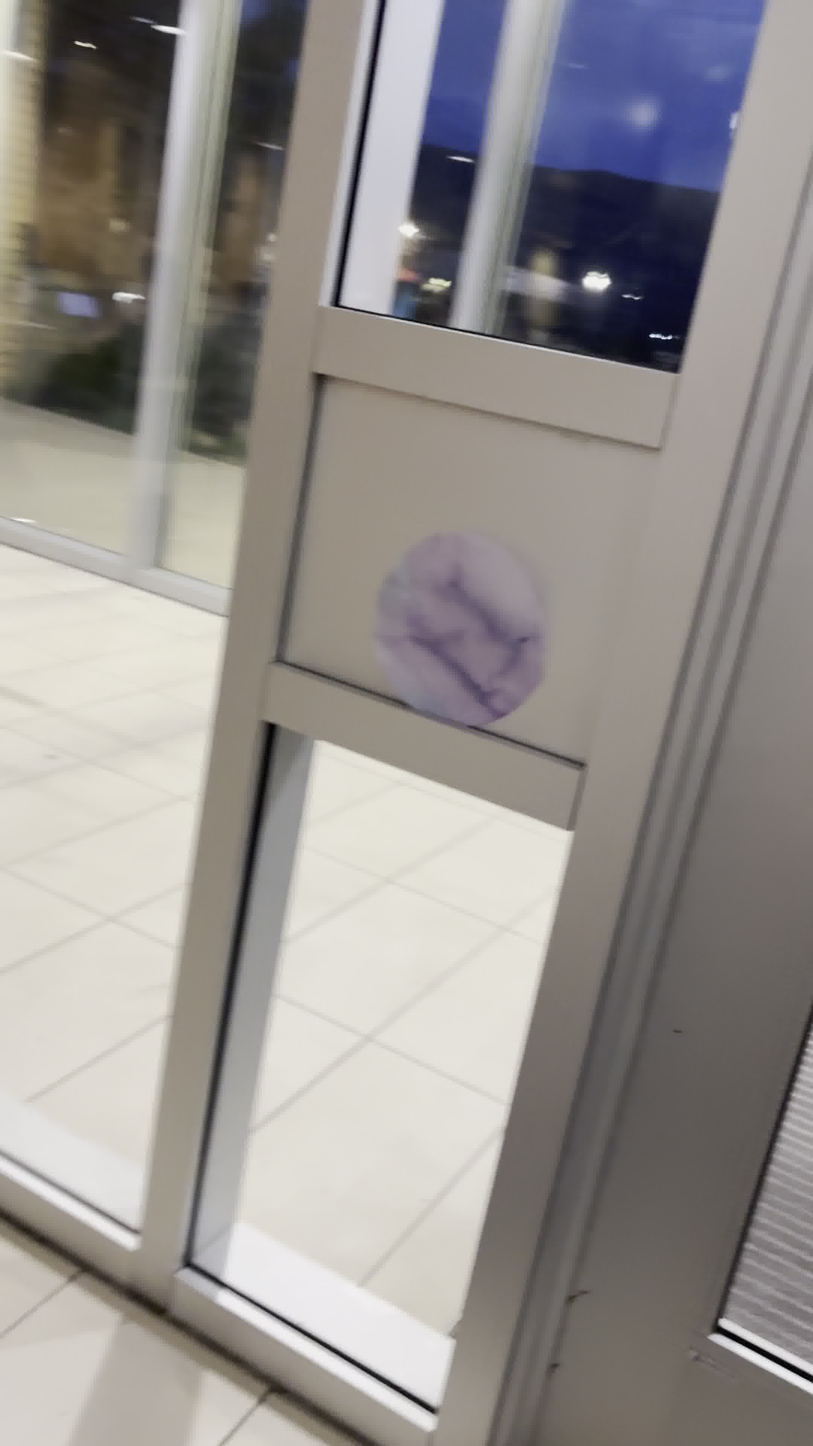Target: (366, 527, 555, 729)
